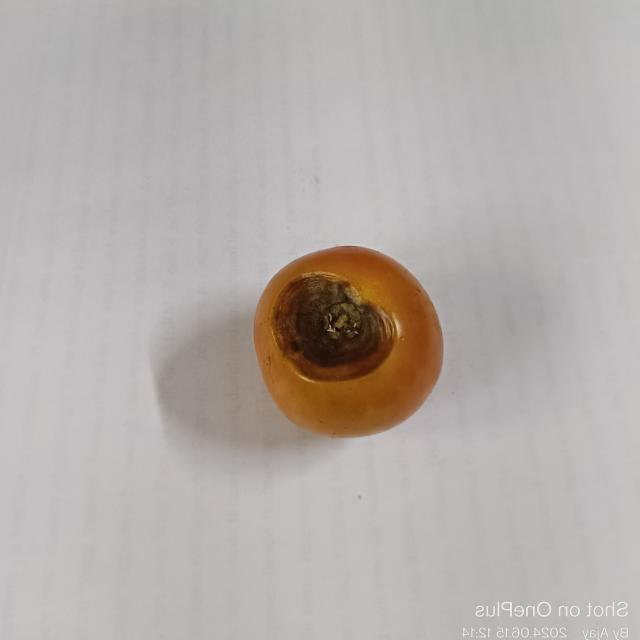Anthrocnose: (275, 272, 399, 386)
